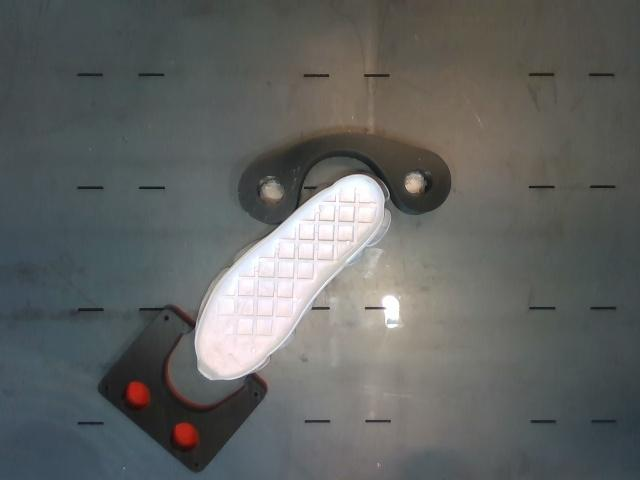shoes: (196, 176, 383, 379)
